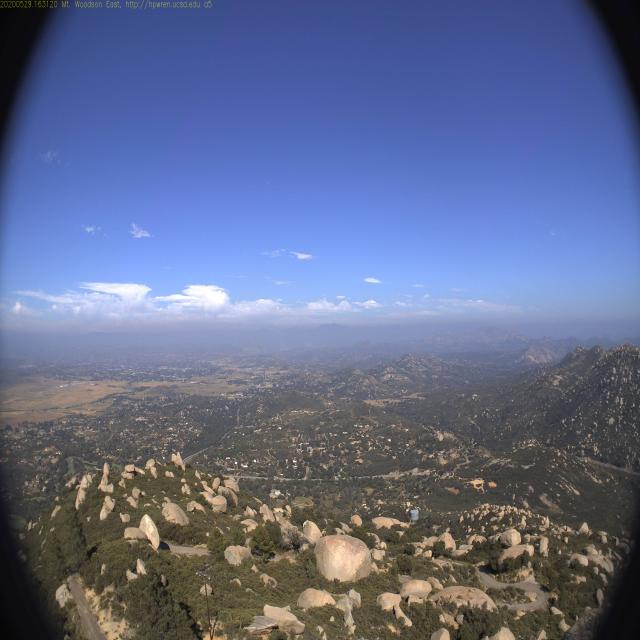smoke: (121, 346, 138, 368)
